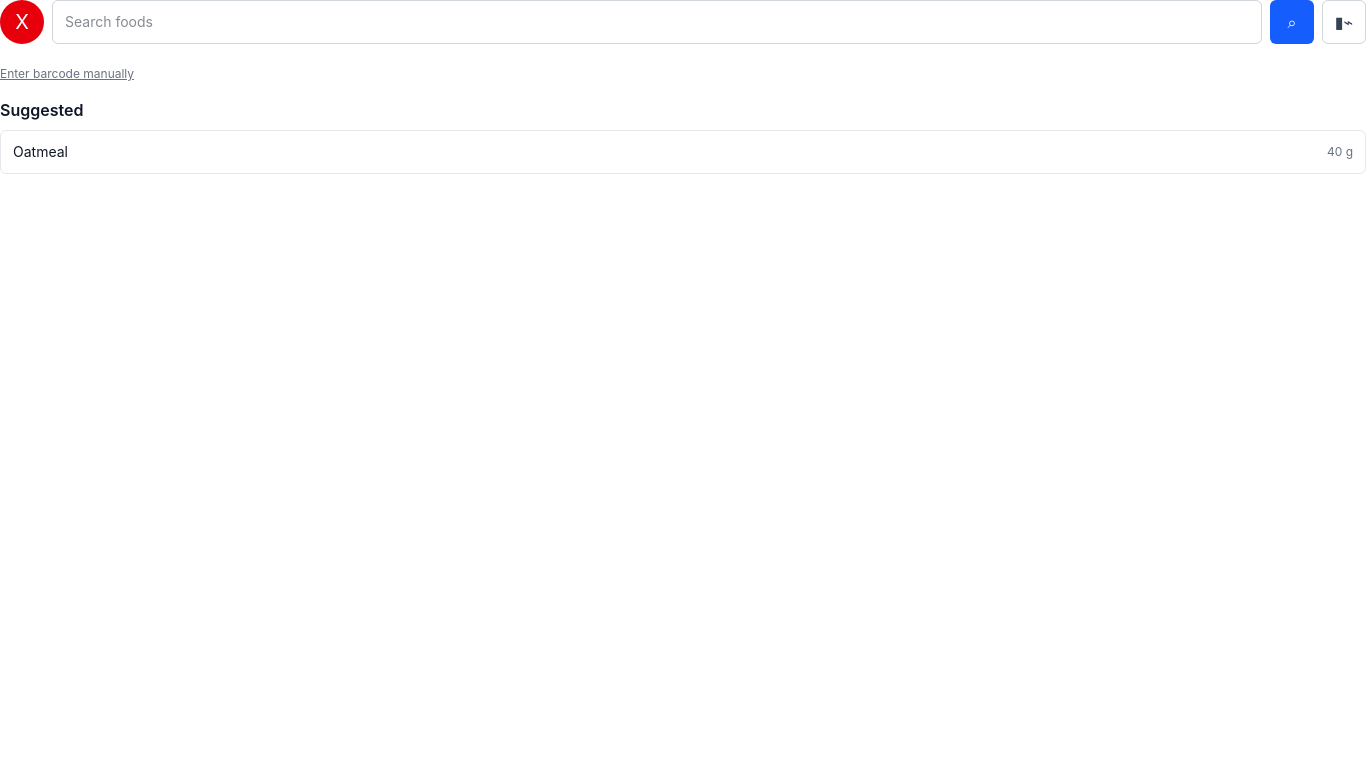
Test: AddEntry › T10: pick without a feed serving falls back to 100 g
The width and height of the screenshot is (1366, 768).
Expected: the text "Oatmeal" is shown, left=13, top=142, right=68, bottom=162
Type "oats" into the field named "Food name" at point(657, 22), box left=52, top=0, right=1262, bottom=44
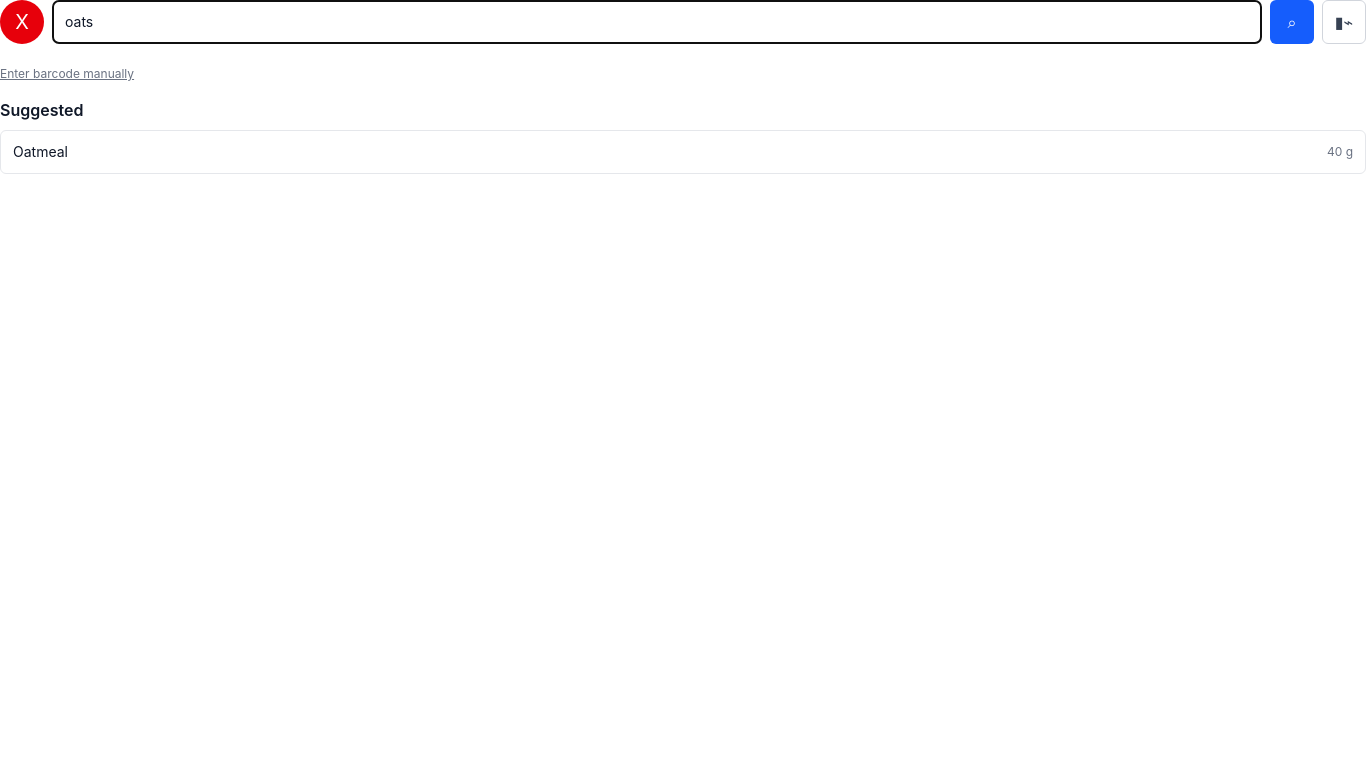
Click the button named "Search" at point(1292, 22), box left=1270, top=0, right=1314, bottom=44
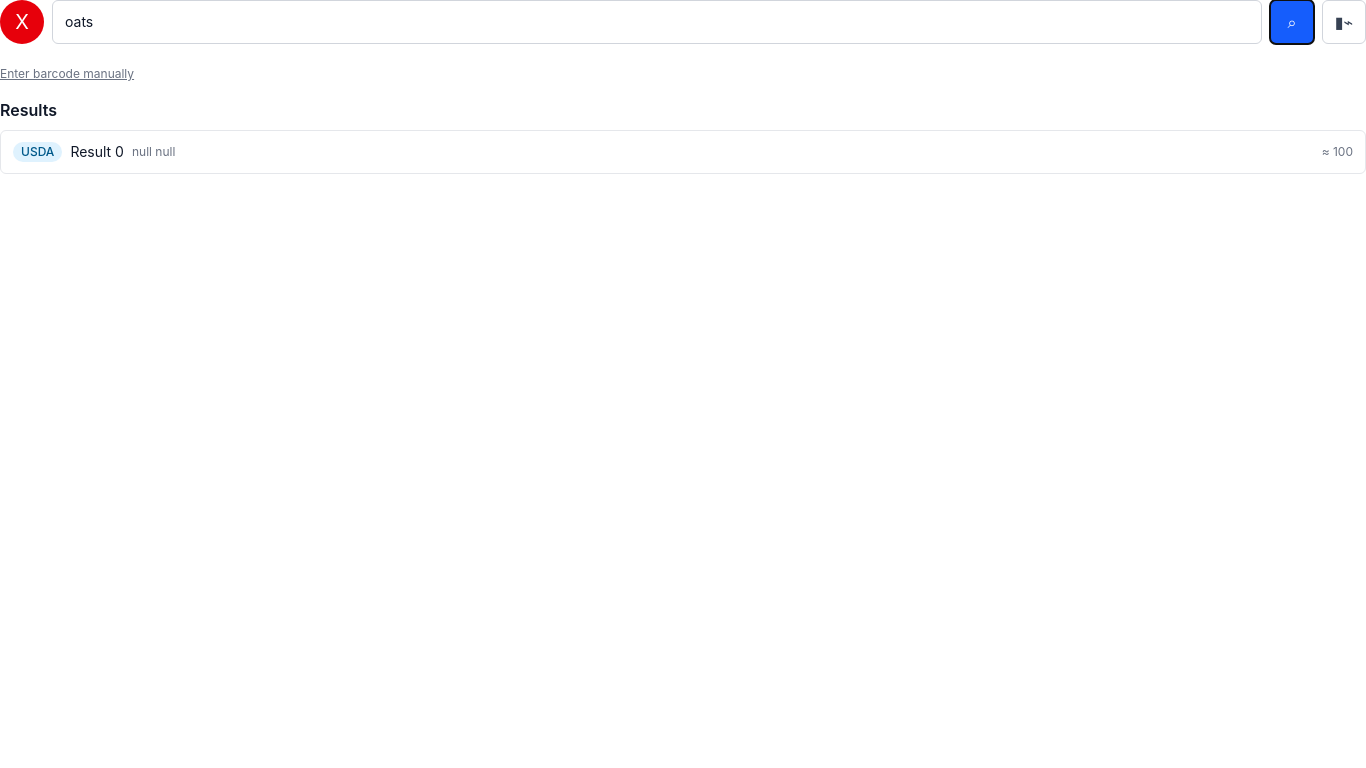
Click the text "Result 0" at point(97, 152), box left=70, top=142, right=124, bottom=162
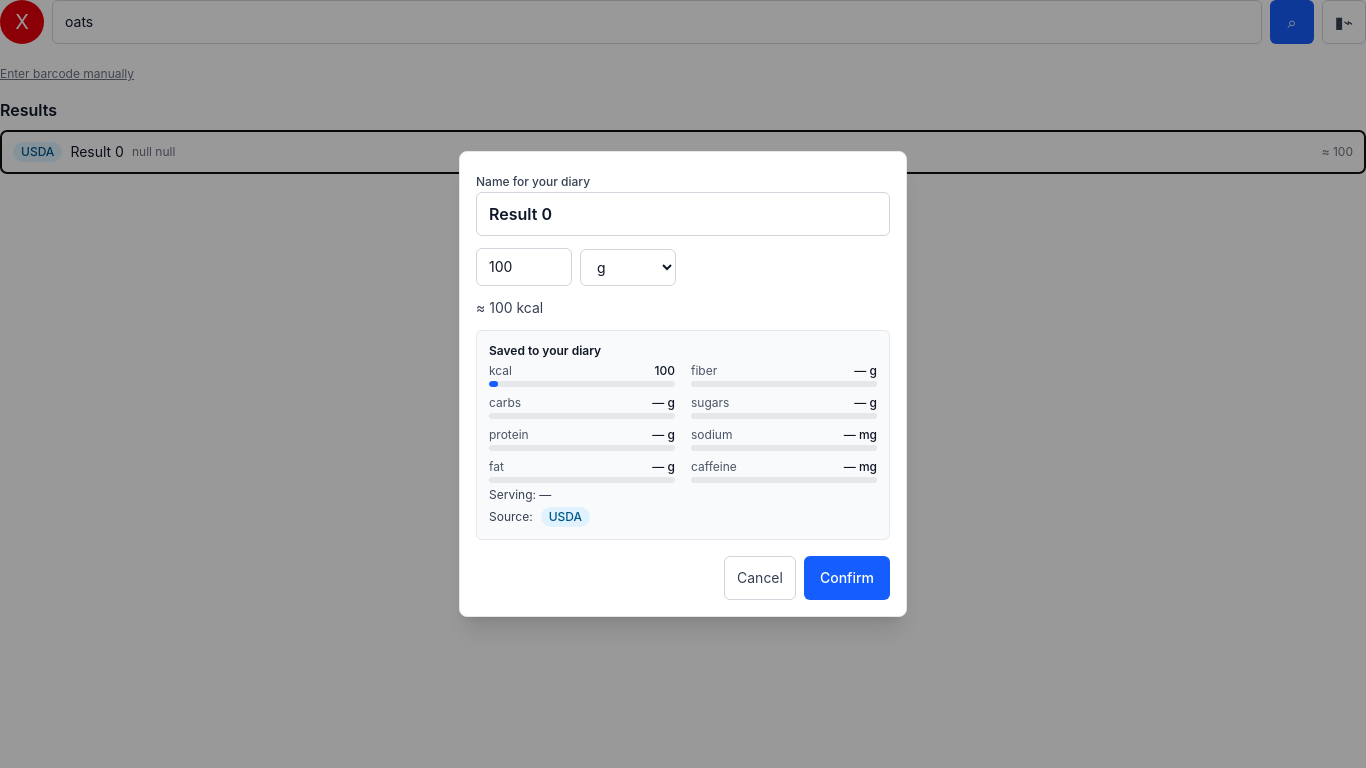
Expected: the dialog named "Confirm Result 0" is shown, left=459, top=151, right=907, bottom=617
Expected: the number field named "Quantity" holds "100", left=476, top=248, right=572, bottom=286
Expected: the dropdown named "Unit" shows "g", left=580, top=248, right=676, bottom=286
